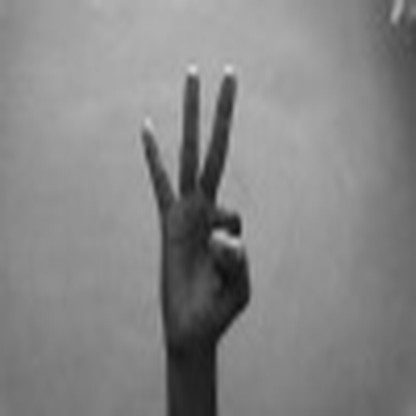f: (114, 59, 274, 336)
